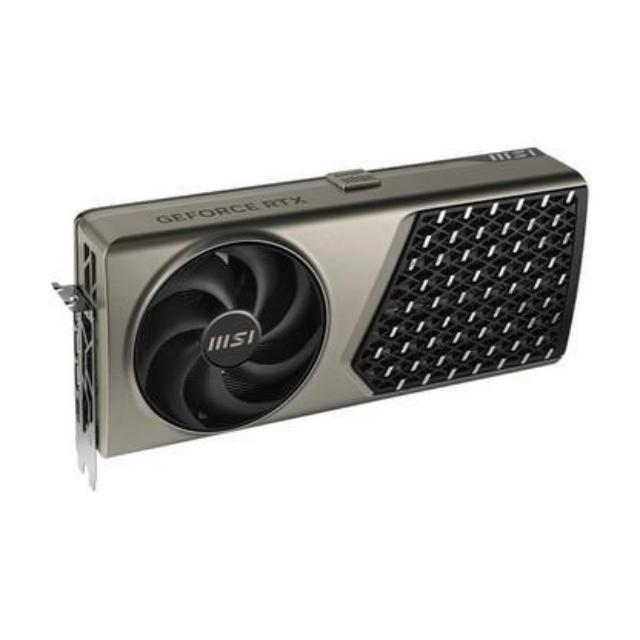GPU: (58, 142, 594, 464)
